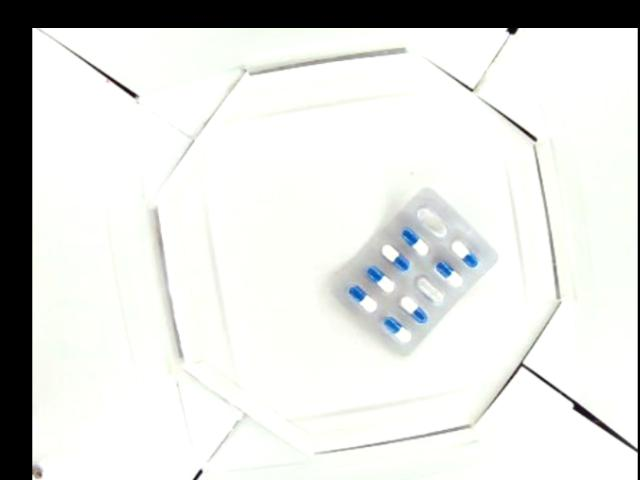Medicine: (329, 183, 501, 353)
